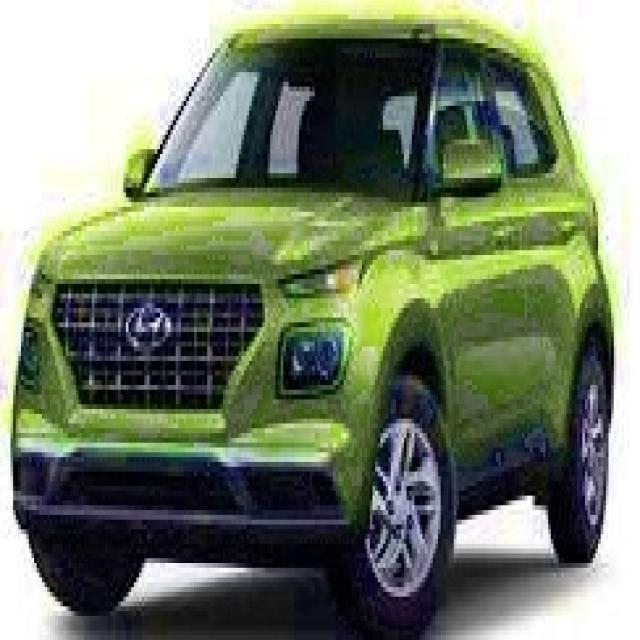green: (8, 19, 611, 640)
